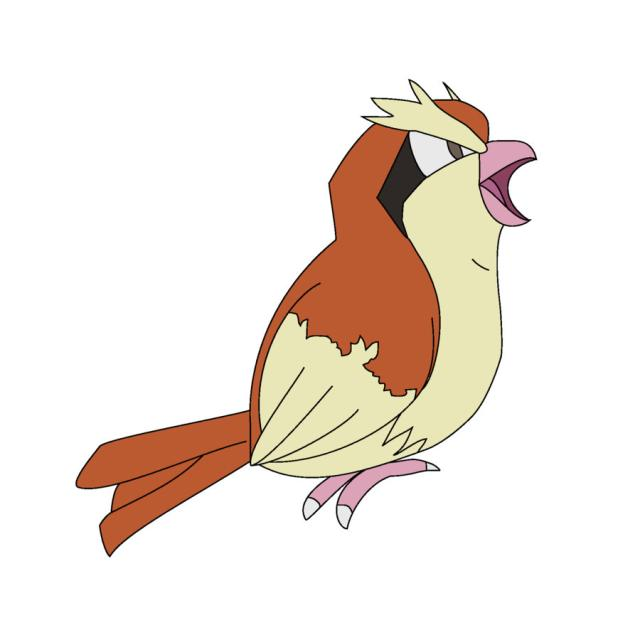Pidgey: (229, 82, 535, 518)
